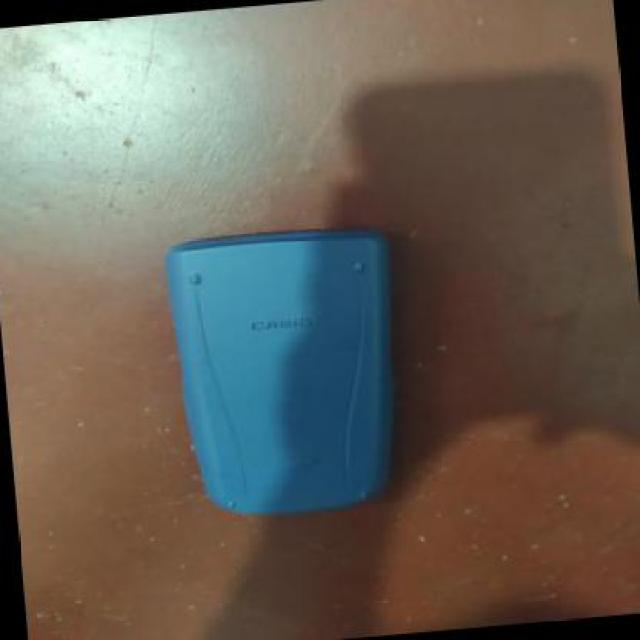Calculator: (156, 207, 416, 528)
